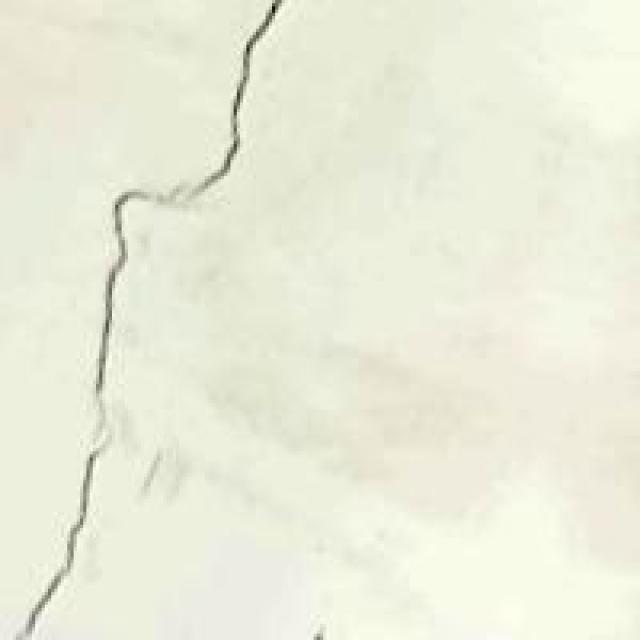Crack: (6, 0, 269, 602)
